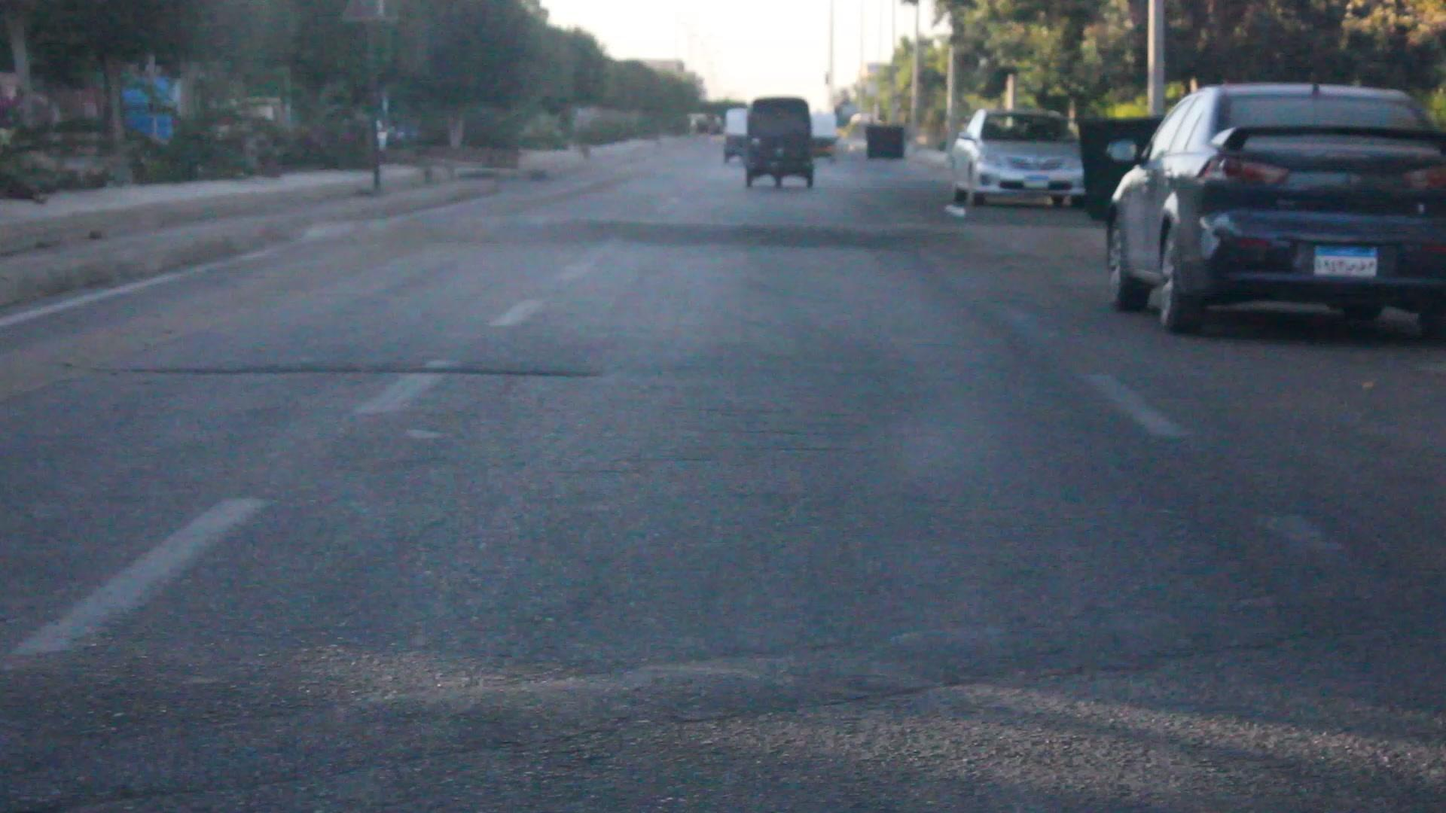Bump: (322, 216, 1084, 262)
